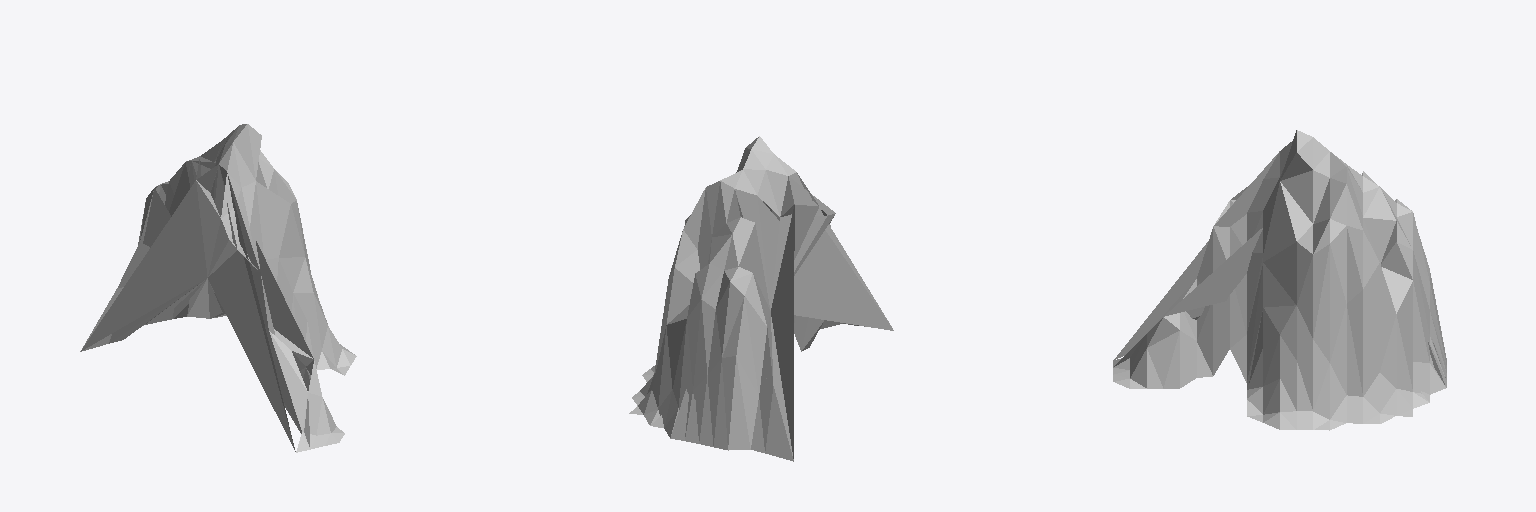
Rendered from tree_46.obj.
The picture shows the model from 3 angles: view 1: azimuth 30°, elevation 25°; view 2: azimuth 150°, elevation 25°; view 3: azimuth 270°, elevation 25°; orthographic projection.
Parts seen in each view (by area): view 1: tree_46.001; view 2: tree_46.001; view 3: tree_46.001.
Boxes of the visible parts, box(x1,y1,x2,y2) form: tree_46.001: box(80, 124, 356, 452); tree_46.001: box(629, 136, 893, 461); tree_46.001: box(1113, 130, 1446, 430).
Bounding box in the file's own units: 14 × 16.74 × 20.